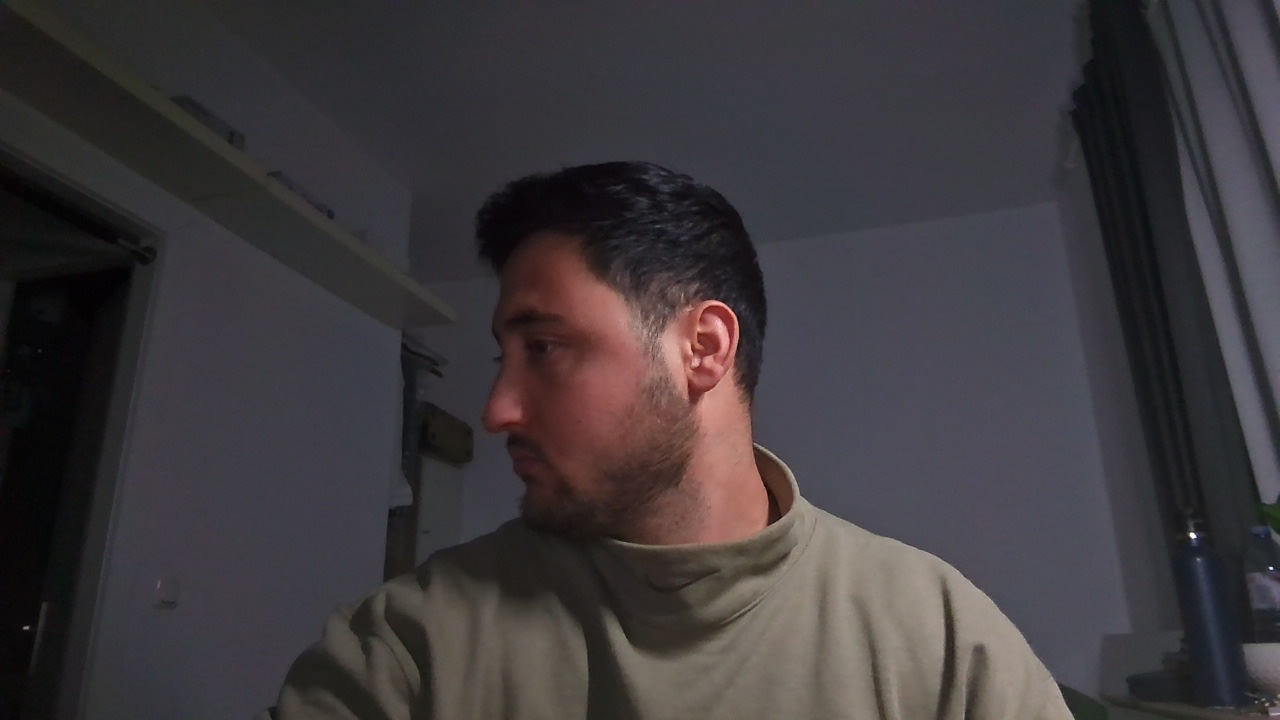Wasserflasche: (1141, 494, 1247, 713)
me: (436, 138, 862, 607)
